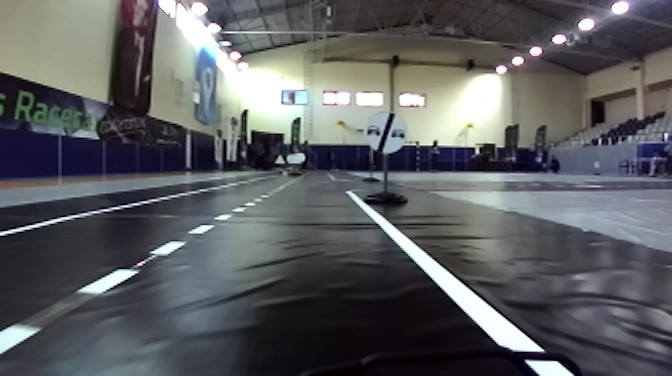sollama_serbest: (365, 111, 407, 155)
